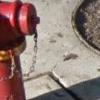Hydrant: (1, 1, 42, 100)
